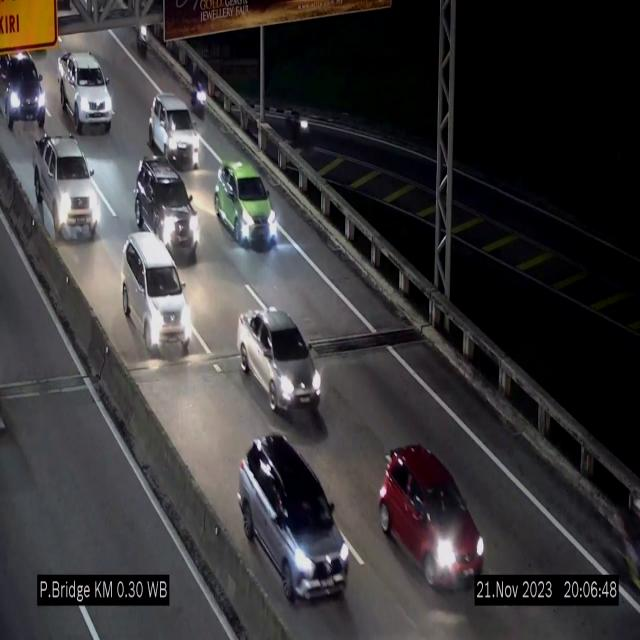Car: (239, 432, 349, 606), (379, 444, 484, 586), (237, 308, 323, 414), (124, 233, 192, 355), (29, 132, 100, 244), (134, 157, 197, 263), (215, 160, 278, 246), (57, 53, 113, 134), (149, 93, 199, 169), (0, 53, 49, 129)
Motorcycle: (282, 102, 312, 150), (132, 18, 152, 70), (190, 61, 207, 122)
